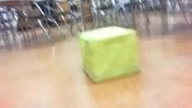cube: (78, 26, 138, 83)
